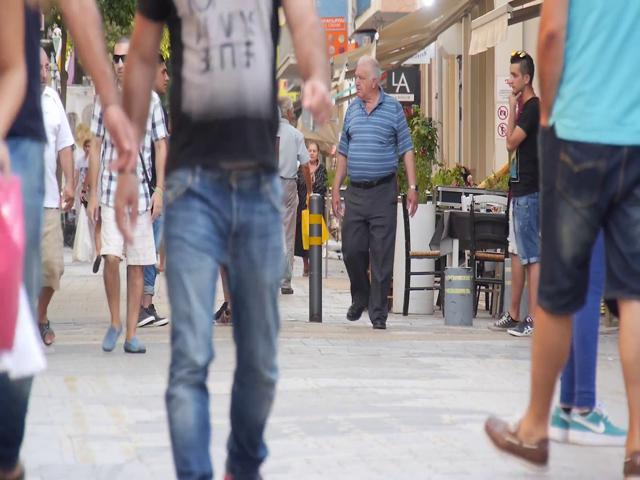shoe: (484, 416, 549, 471), (569, 411, 628, 445), (487, 311, 521, 331), (102, 324, 122, 351), (508, 316, 535, 336), (38, 320, 56, 346), (136, 305, 155, 327), (123, 338, 146, 353), (346, 304, 364, 321), (372, 318, 387, 329)
